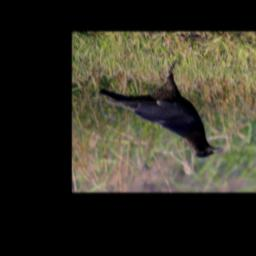Crow: (97, 57, 225, 159)
